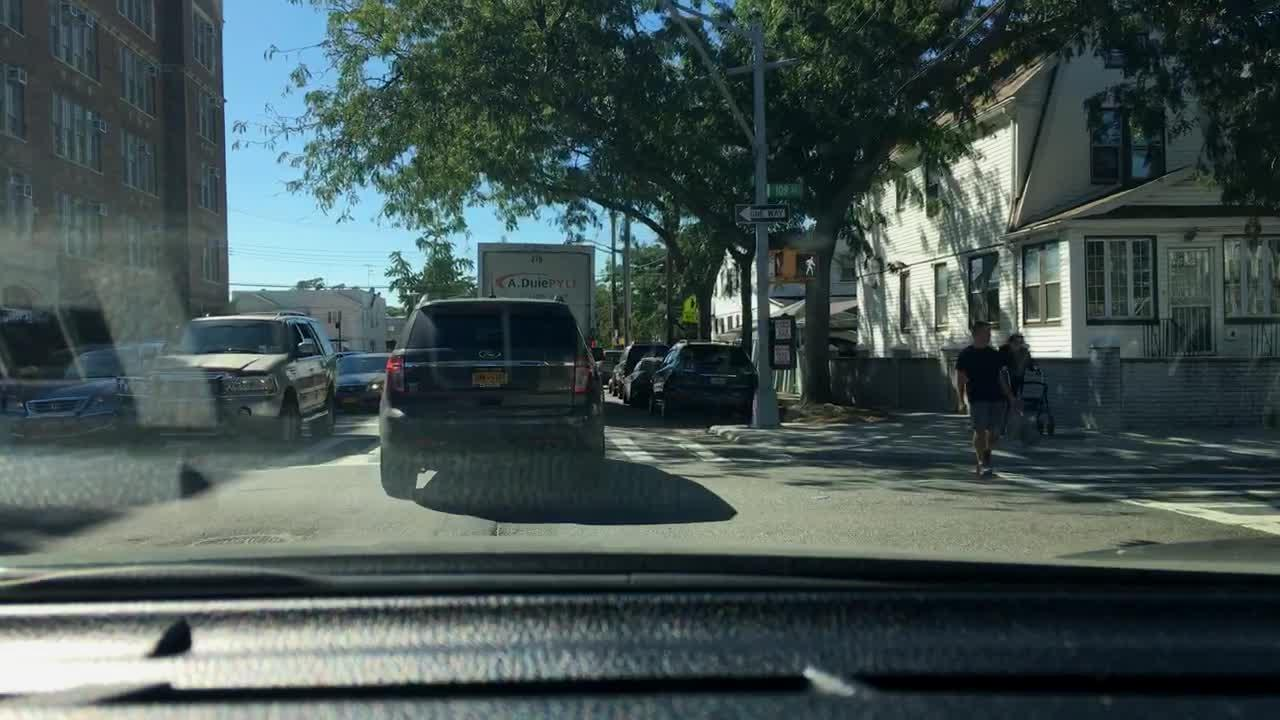ford: (475, 343, 504, 361)
